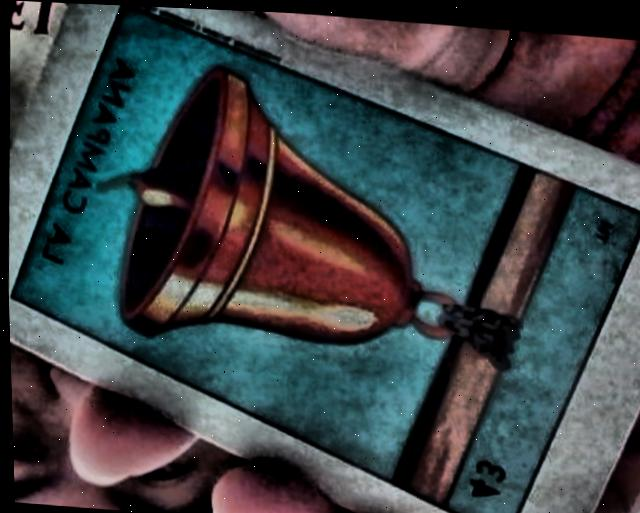La Campana: (10, 4, 640, 513)
